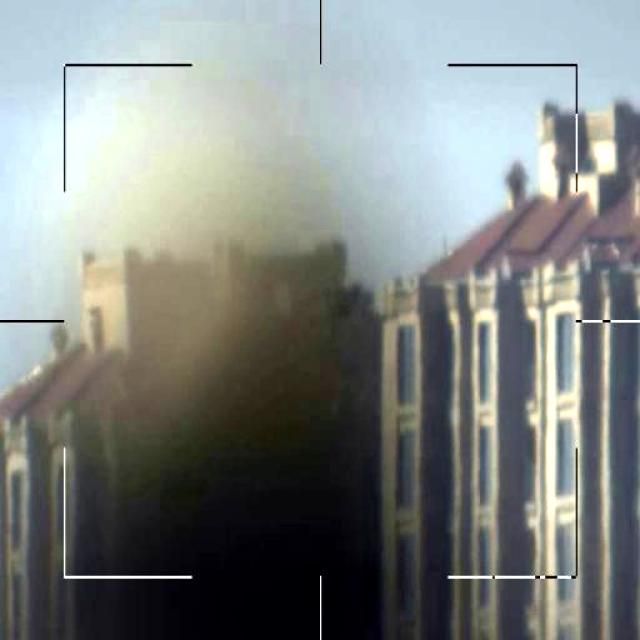bird: (315, 269, 362, 346)
